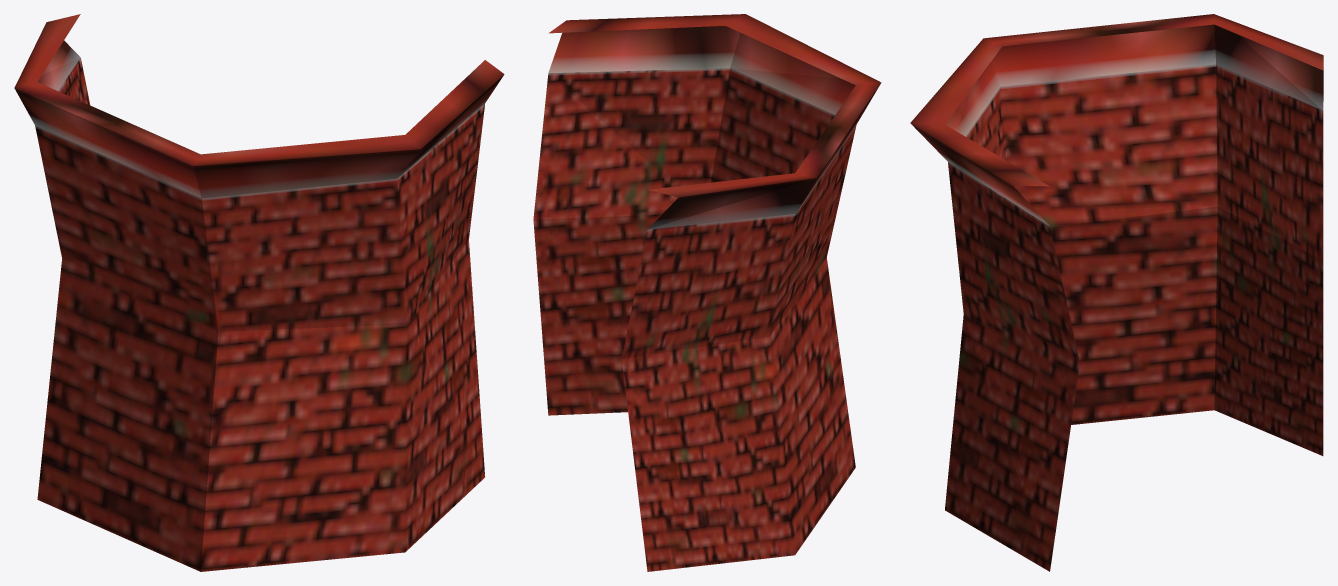
Rendered from W_A_Erker_xxxx_1144.glb.
The picture shows the model from 3 angles, left to right: view 1: azimuth 30°, elevation 25°; view 2: azimuth 150°, elevation 25°; view 3: azimuth 270°, elevation 25°; orthographic projection. The views are drawn at different scales.
Visible parts, largest first — view 1: pPlaneShape3, pPlaneShape1; view 2: pPlaneShape3, pPlaneShape1; view 3: pPlaneShape3, pPlaneShape1.
Part boxes in pixels (box(x1,y1,x2,y2)): pPlaneShape3: box(35, 58, 484, 571); pPlaneShape1: box(14, 14, 504, 198); pPlaneShape3: box(533, 68, 856, 571); pPlaneShape1: box(548, 14, 881, 229); pPlaneShape3: box(945, 64, 1323, 571); pPlaneShape1: box(910, 14, 1323, 225).
Size of the model in its own units: 0.3726 by 0.3891 by 0.3781.
2 materials, 2 textured.
